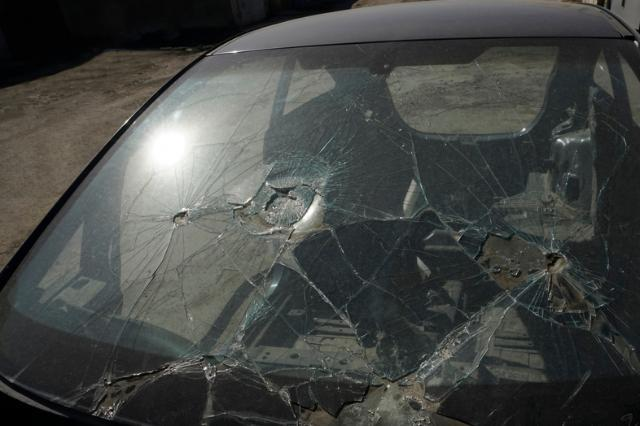Windshield: (7, 29, 640, 420)
